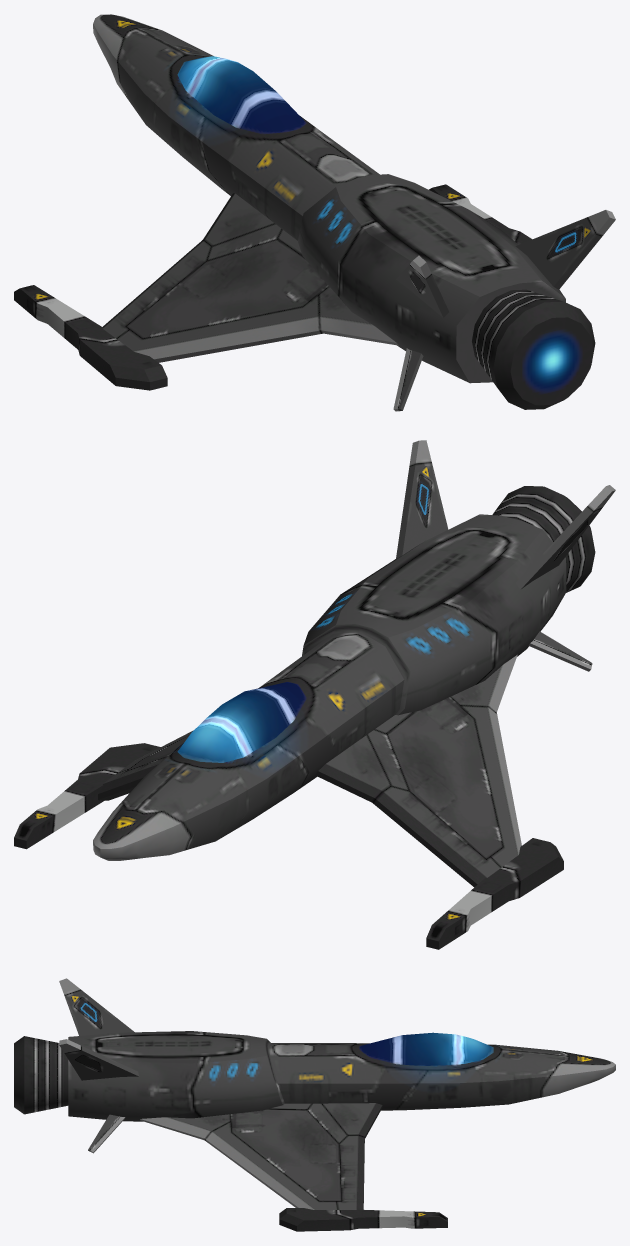
File: scout10.gltf
The picture shows the model from 3 angles, top to bottom: view 1: azimuth 30°, elevation 25°; view 2: azimuth 150°, elevation 25°; view 3: azimuth 270°, elevation 25°; orthographic projection. The views are drawn at different scales.
Visible parts, largest first — view 1: scout10; view 2: scout10; view 3: scout10.
Boxes of the visible parts, <box> form: scout10: <box>14,14,615,411</box>; scout10: <box>14,440,615,949</box>; scout10: <box>14,978,615,1231</box>.
Size of the model in its own units: 6.16 by 2.96 by 10.74.
1 material, 1 textured.
